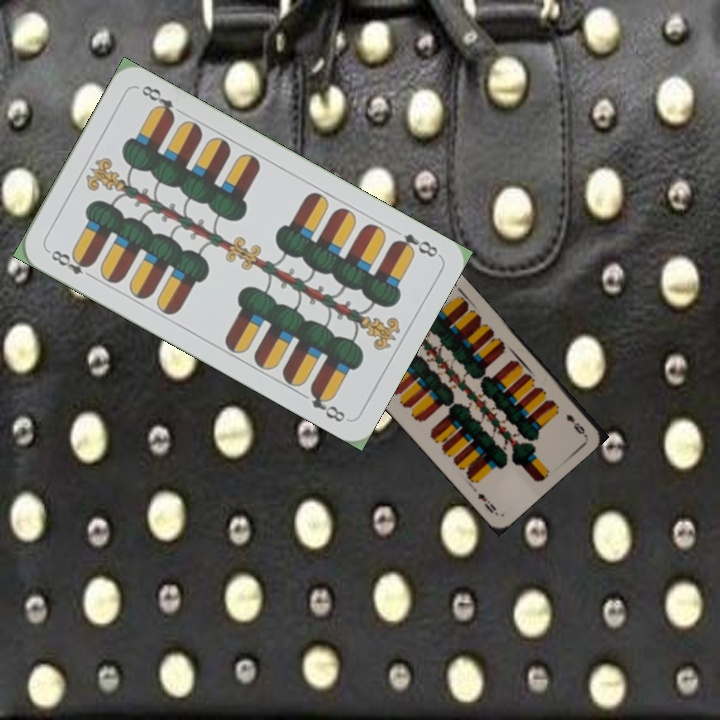E8: (43, 245, 97, 282), (388, 229, 441, 260)
E9: (562, 410, 587, 437)
